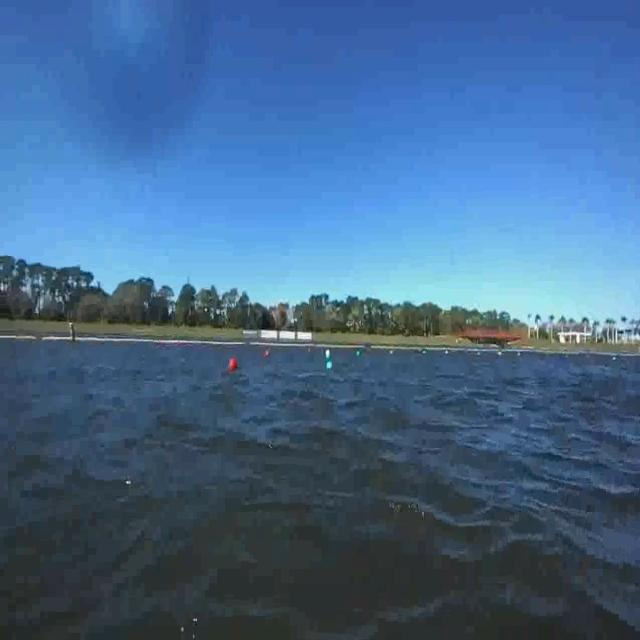green-buoy: (326, 356, 334, 374)
red-buoy: (229, 358, 237, 372)
